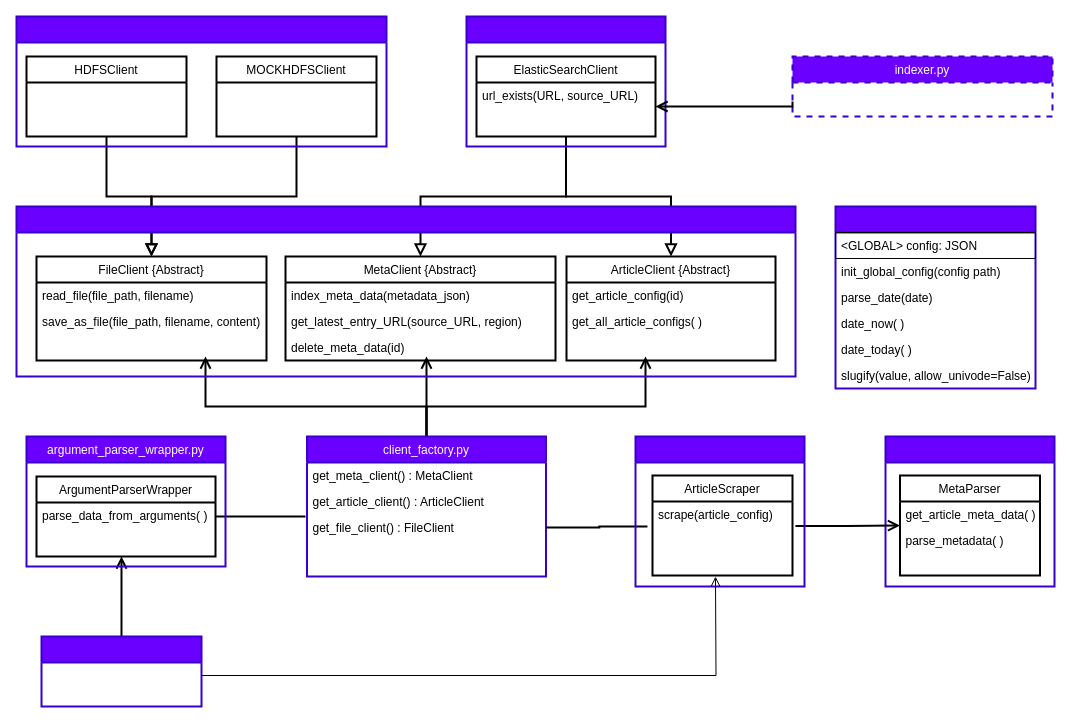
Image size: 1071x723. Some labels were removed from this diagram. Here are the shapes that lost their labels. From the top down, the box of each, then its label:
(15, 15, 387, 147): hdfs_client.py
(465, 15, 666, 147): elastic_search_client.py
(15, 205, 796, 377): abstract_client.py
(834, 205, 1036, 389): utils.py
(634, 435, 805, 587): article_scraper.py
(884, 435, 1055, 587): meta_parser.py
(40, 635, 202, 707): main.py
